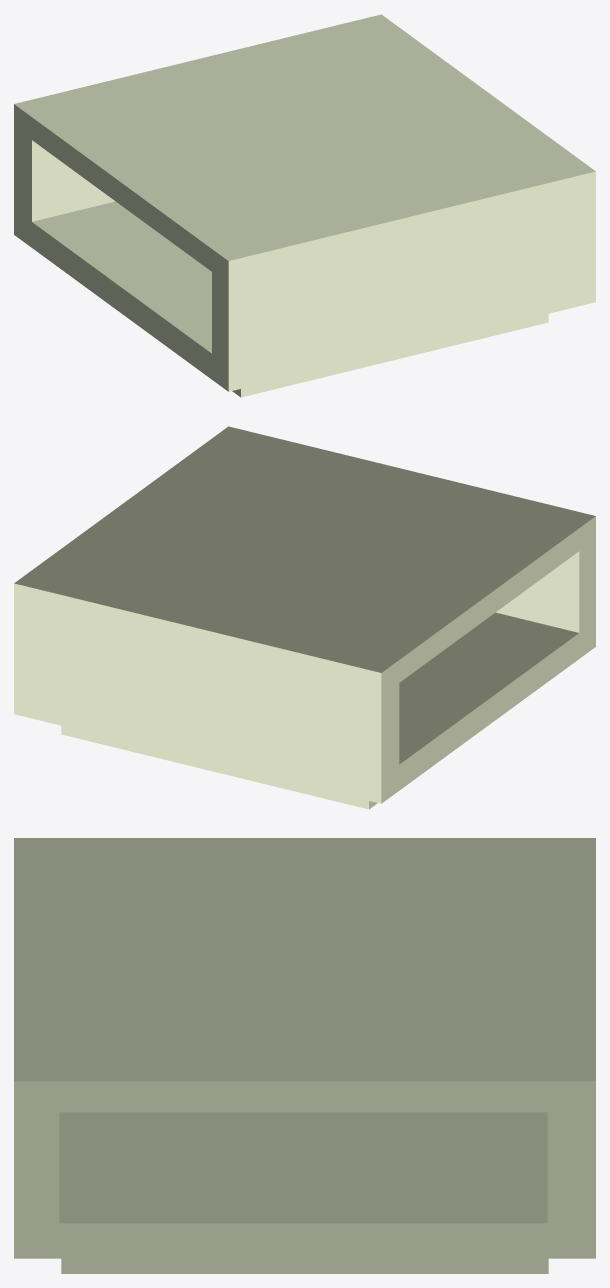
File: hotl_coffee_table.FBX
3 views of the same model, one above another, from view 1: azimuth 30°, elevation 25°; view 2: azimuth 150°, elevation 25°; view 3: azimuth 270°, elevation 25° (orthographic). The views are drawn at different scales.
Visible parts, largest first — view 1: сoffee_table; view 2: сoffee_table; view 3: сoffee_table.
Part boxes in pixels (box(x1,y1,x2,y2)): сoffee_table: box(14, 14, 595, 397); сoffee_table: box(14, 426, 595, 809); сoffee_table: box(14, 838, 595, 1273).
Bounding box in the file's own units: 1.42 × 0.5775 × 1.43.
